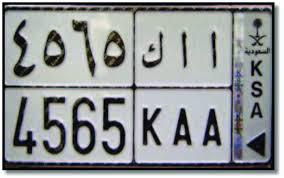4: (12, 18, 38, 155)
5: (43, 29, 68, 155), (102, 30, 127, 155)
6: (71, 19, 98, 156)
A: (201, 30, 222, 147), (172, 31, 193, 147)
K: (141, 31, 164, 147)
